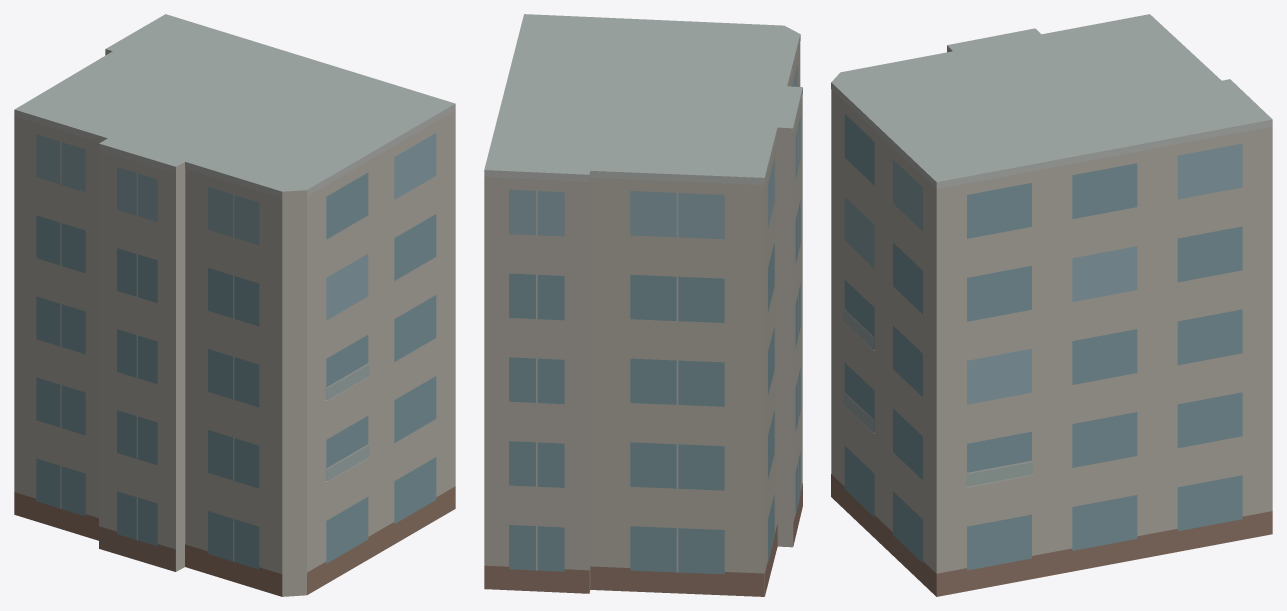
The model's file is survey-upis-32532250.glb.
The picture shows the model from 3 angles, left to right: view 1: azimuth 30°, elevation 25°; view 2: azimuth 150°, elevation 25°; view 3: azimuth 270°, elevation 25°; orthographic projection. The views are drawn at different scales.
Visible parts, largest first — view 1: survey-upis-32532250.tmp; view 2: survey-upis-32532250.tmp; view 3: survey-upis-32532250.tmp.
Boxes of the visible parts, <box> form: survey-upis-32532250.tmp: <box>14,14,455,596</box>; survey-upis-32532250.tmp: <box>484,14,802,596</box>; survey-upis-32532250.tmp: <box>831,14,1272,596</box>.
Bounding box in the file's own units: 12.71 × 14.6 × 14.1.
